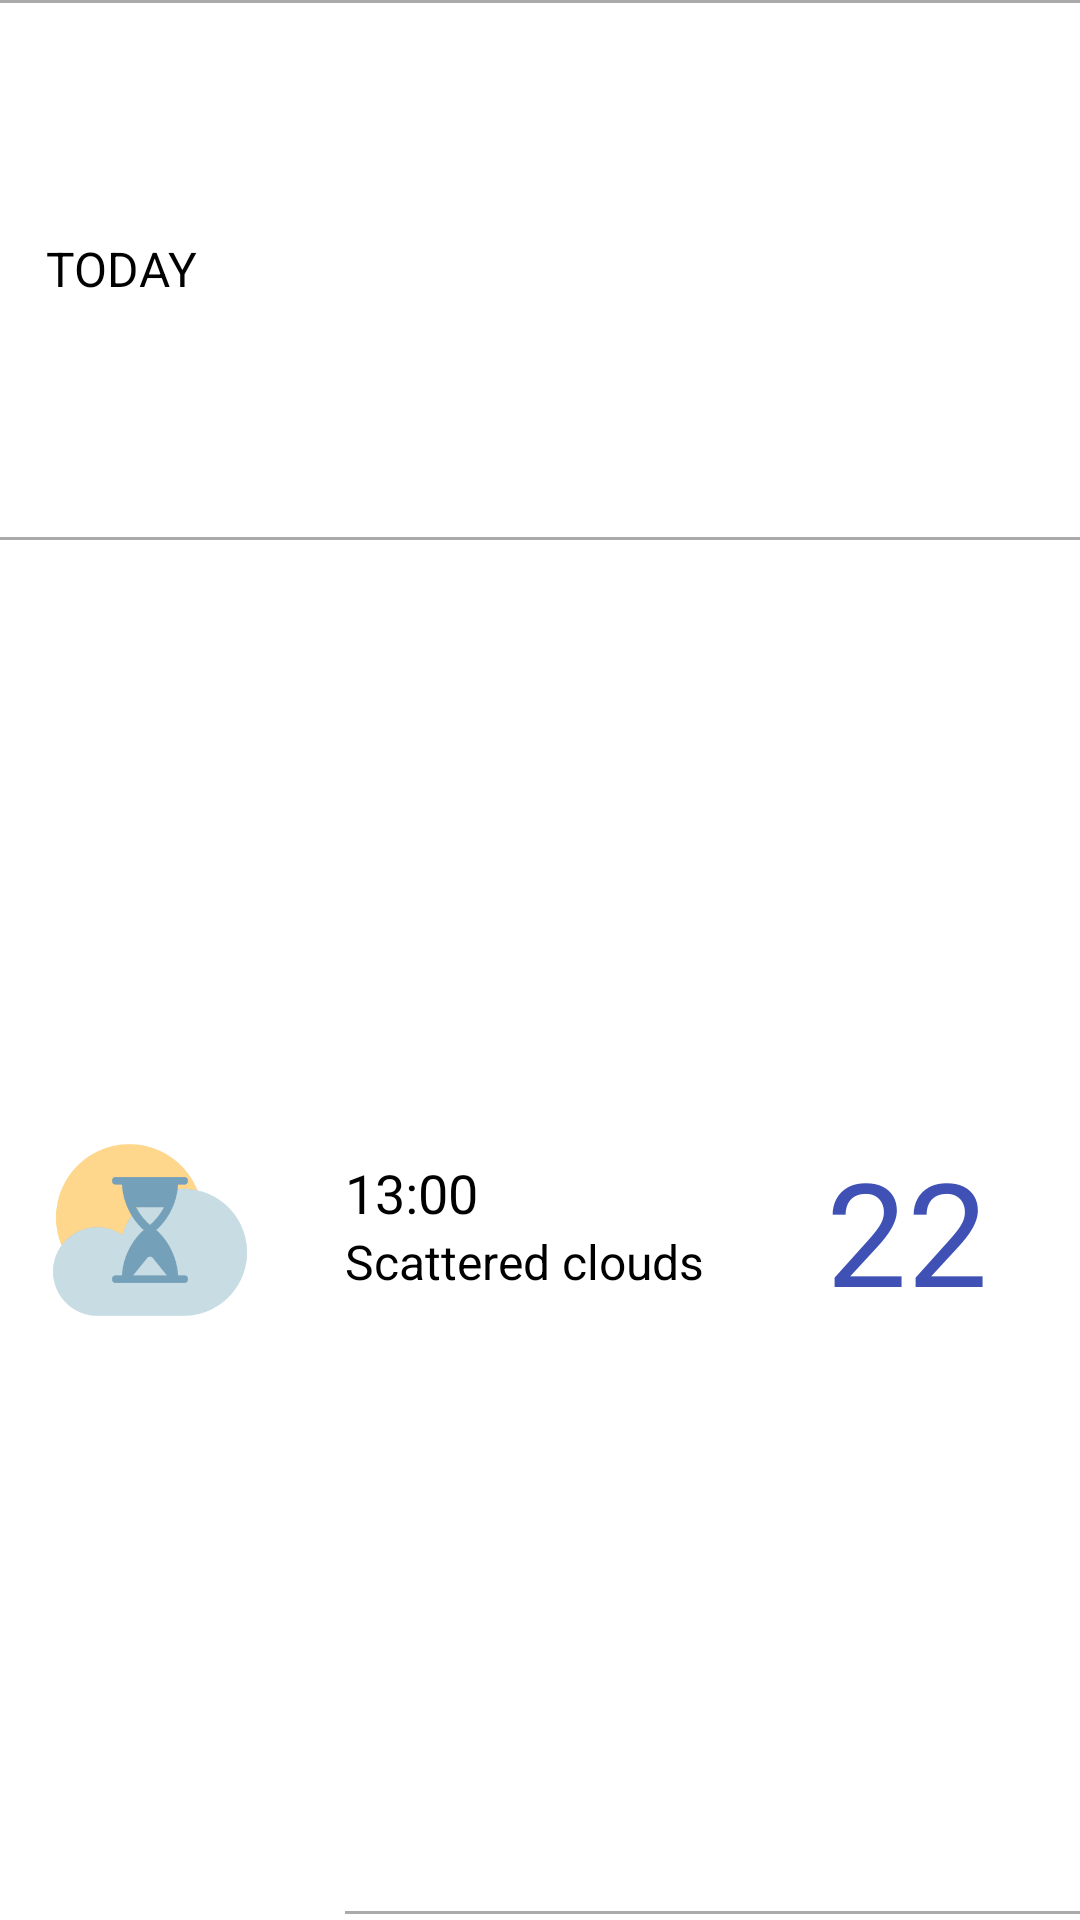

Named icons in this screenshot (1080x1920) and their centers, point (x, y):
load: point (150, 1230)
